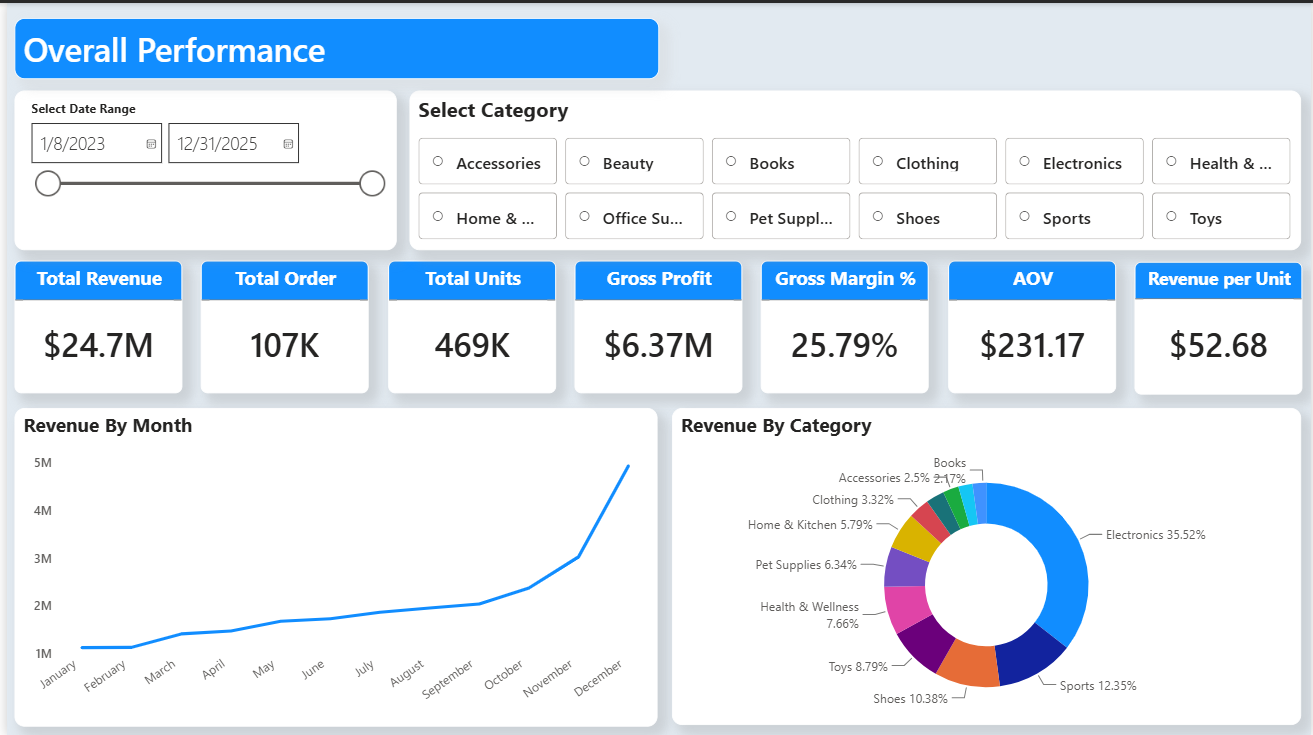

The dashboard page shown, as its layout file describes it:
{"tool":"powerbi","page":{"name":"Overall Performance","canvas":[1280,720],"ordinal":0},"visuals":[{"type":"cardVisual","title":"Total Revenue","fields":{"Data":["_Measures (2).Total Revenue"]},"box":[7.4,252.2,165,130],"z":0},{"type":"cardVisual","title":"Total Order","fields":{"Data":["_Measures (2).Total Orders"]},"box":[190.6,252.4,165,130],"z":1000},{"type":"cardVisual","title":"Total Units","fields":{"Data":["_Measures (2).Total Units"]},"box":[373.8,252.7,165,130],"z":2000},{"type":"cardVisual","title":"Gross Profit","fields":{"Data":["_Measures (2).Total Gross Profit"]},"box":[557,252.9,165,130],"z":3000},{"type":"cardVisual","title":"Gross Margin %","fields":{"Data":["_Measures (2).Gross Margin %"]},"box":[740.2,253.1,165,130],"z":4000},{"type":"cardVisual","title":"AOV","fields":{"Data":["_Measures (2).AOV"]},"box":[923.4,253.4,165,130],"z":5000},{"type":"cardVisual","title":"Revenue per Unit","fields":{"Data":["_Measures (2).Revenue per Unit"]},"box":[1106.6,253.6,165,130],"z":6000},{"type":"lineChart","title":"Revenue By Month","fields":{"Y":["Sum(fct_sales_flat.item_revenue)"],"Category":["fct_sales_flat.month_name"]},"box":[6.9,397.9,631.2,312.9],"z":7000},{"type":"donutChart","title":"Revenue By Category","fields":{"Category":["fct_sales_flat.category_name"],"Y":["Sum(fct_sales_flat.item_revenue)"]},"box":[653.2,397.9,617.5,311.5],"z":8000},{"type":"slicer","fields":{"Values":["DimDate.Date"]},"box":[7.4,85.9,375.5,157.1],"z":9000},{"type":"advancedSlicerVisual","title":"Select Category","fields":{"Values":["fct_sales_flat.category_name"]},"box":[395.1,85.9,874.9,157.1],"z":10000},{"type":"textbox","box":[7.4,14.7,633.1,60.1],"z":11000}]}

Visuals, with their boxes in screenshot pixels (x1, y1, x2, y2), scaled from the page's 1280x720 canvas onto the 1313x735 screenshot:
"Total Revenue" cardVisual: bbox=(8, 257, 177, 390)
"Total Order" cardVisual: bbox=(196, 258, 365, 390)
"Total Units" cardVisual: bbox=(383, 258, 553, 391)
"Gross Profit" cardVisual: bbox=(571, 258, 741, 391)
"Gross Margin %" cardVisual: bbox=(759, 258, 929, 391)
"AOV" cardVisual: bbox=(947, 259, 1116, 391)
"Revenue per Unit" cardVisual: bbox=(1135, 259, 1304, 392)
"Revenue By Month" lineChart: bbox=(7, 406, 655, 726)
"Revenue By Category" donutChart: bbox=(670, 406, 1303, 724)
slicer - DimDate.Date: bbox=(8, 88, 393, 248)
"Select Category" advancedSlicerVisual: bbox=(405, 88, 1303, 248)
textbox: bbox=(8, 15, 657, 76)
